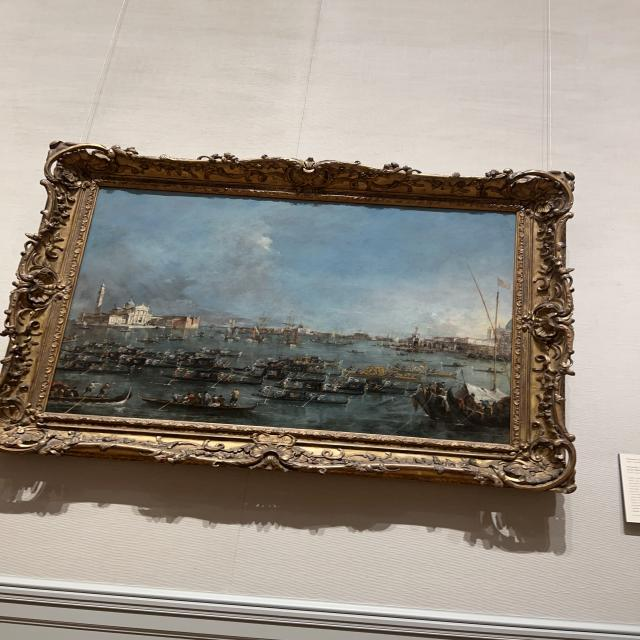ships: (52, 194, 507, 435)
